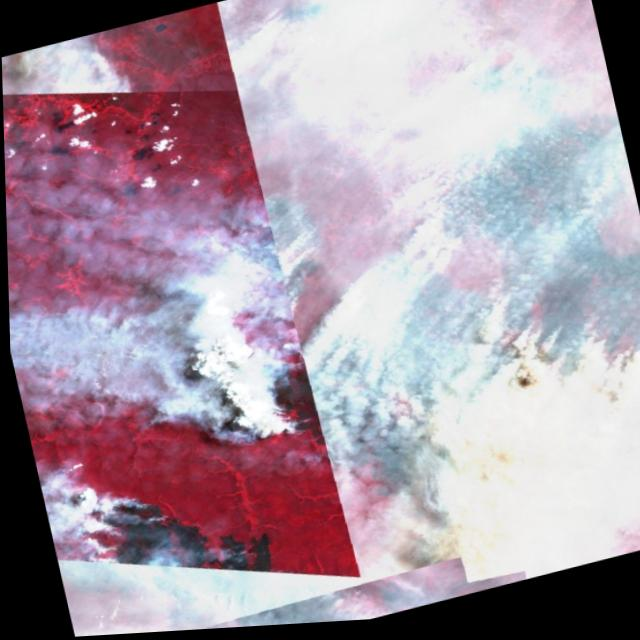fire: (485, 259, 640, 424), (214, 179, 337, 324), (216, 348, 326, 459), (77, 479, 180, 575), (263, 0, 346, 52)
